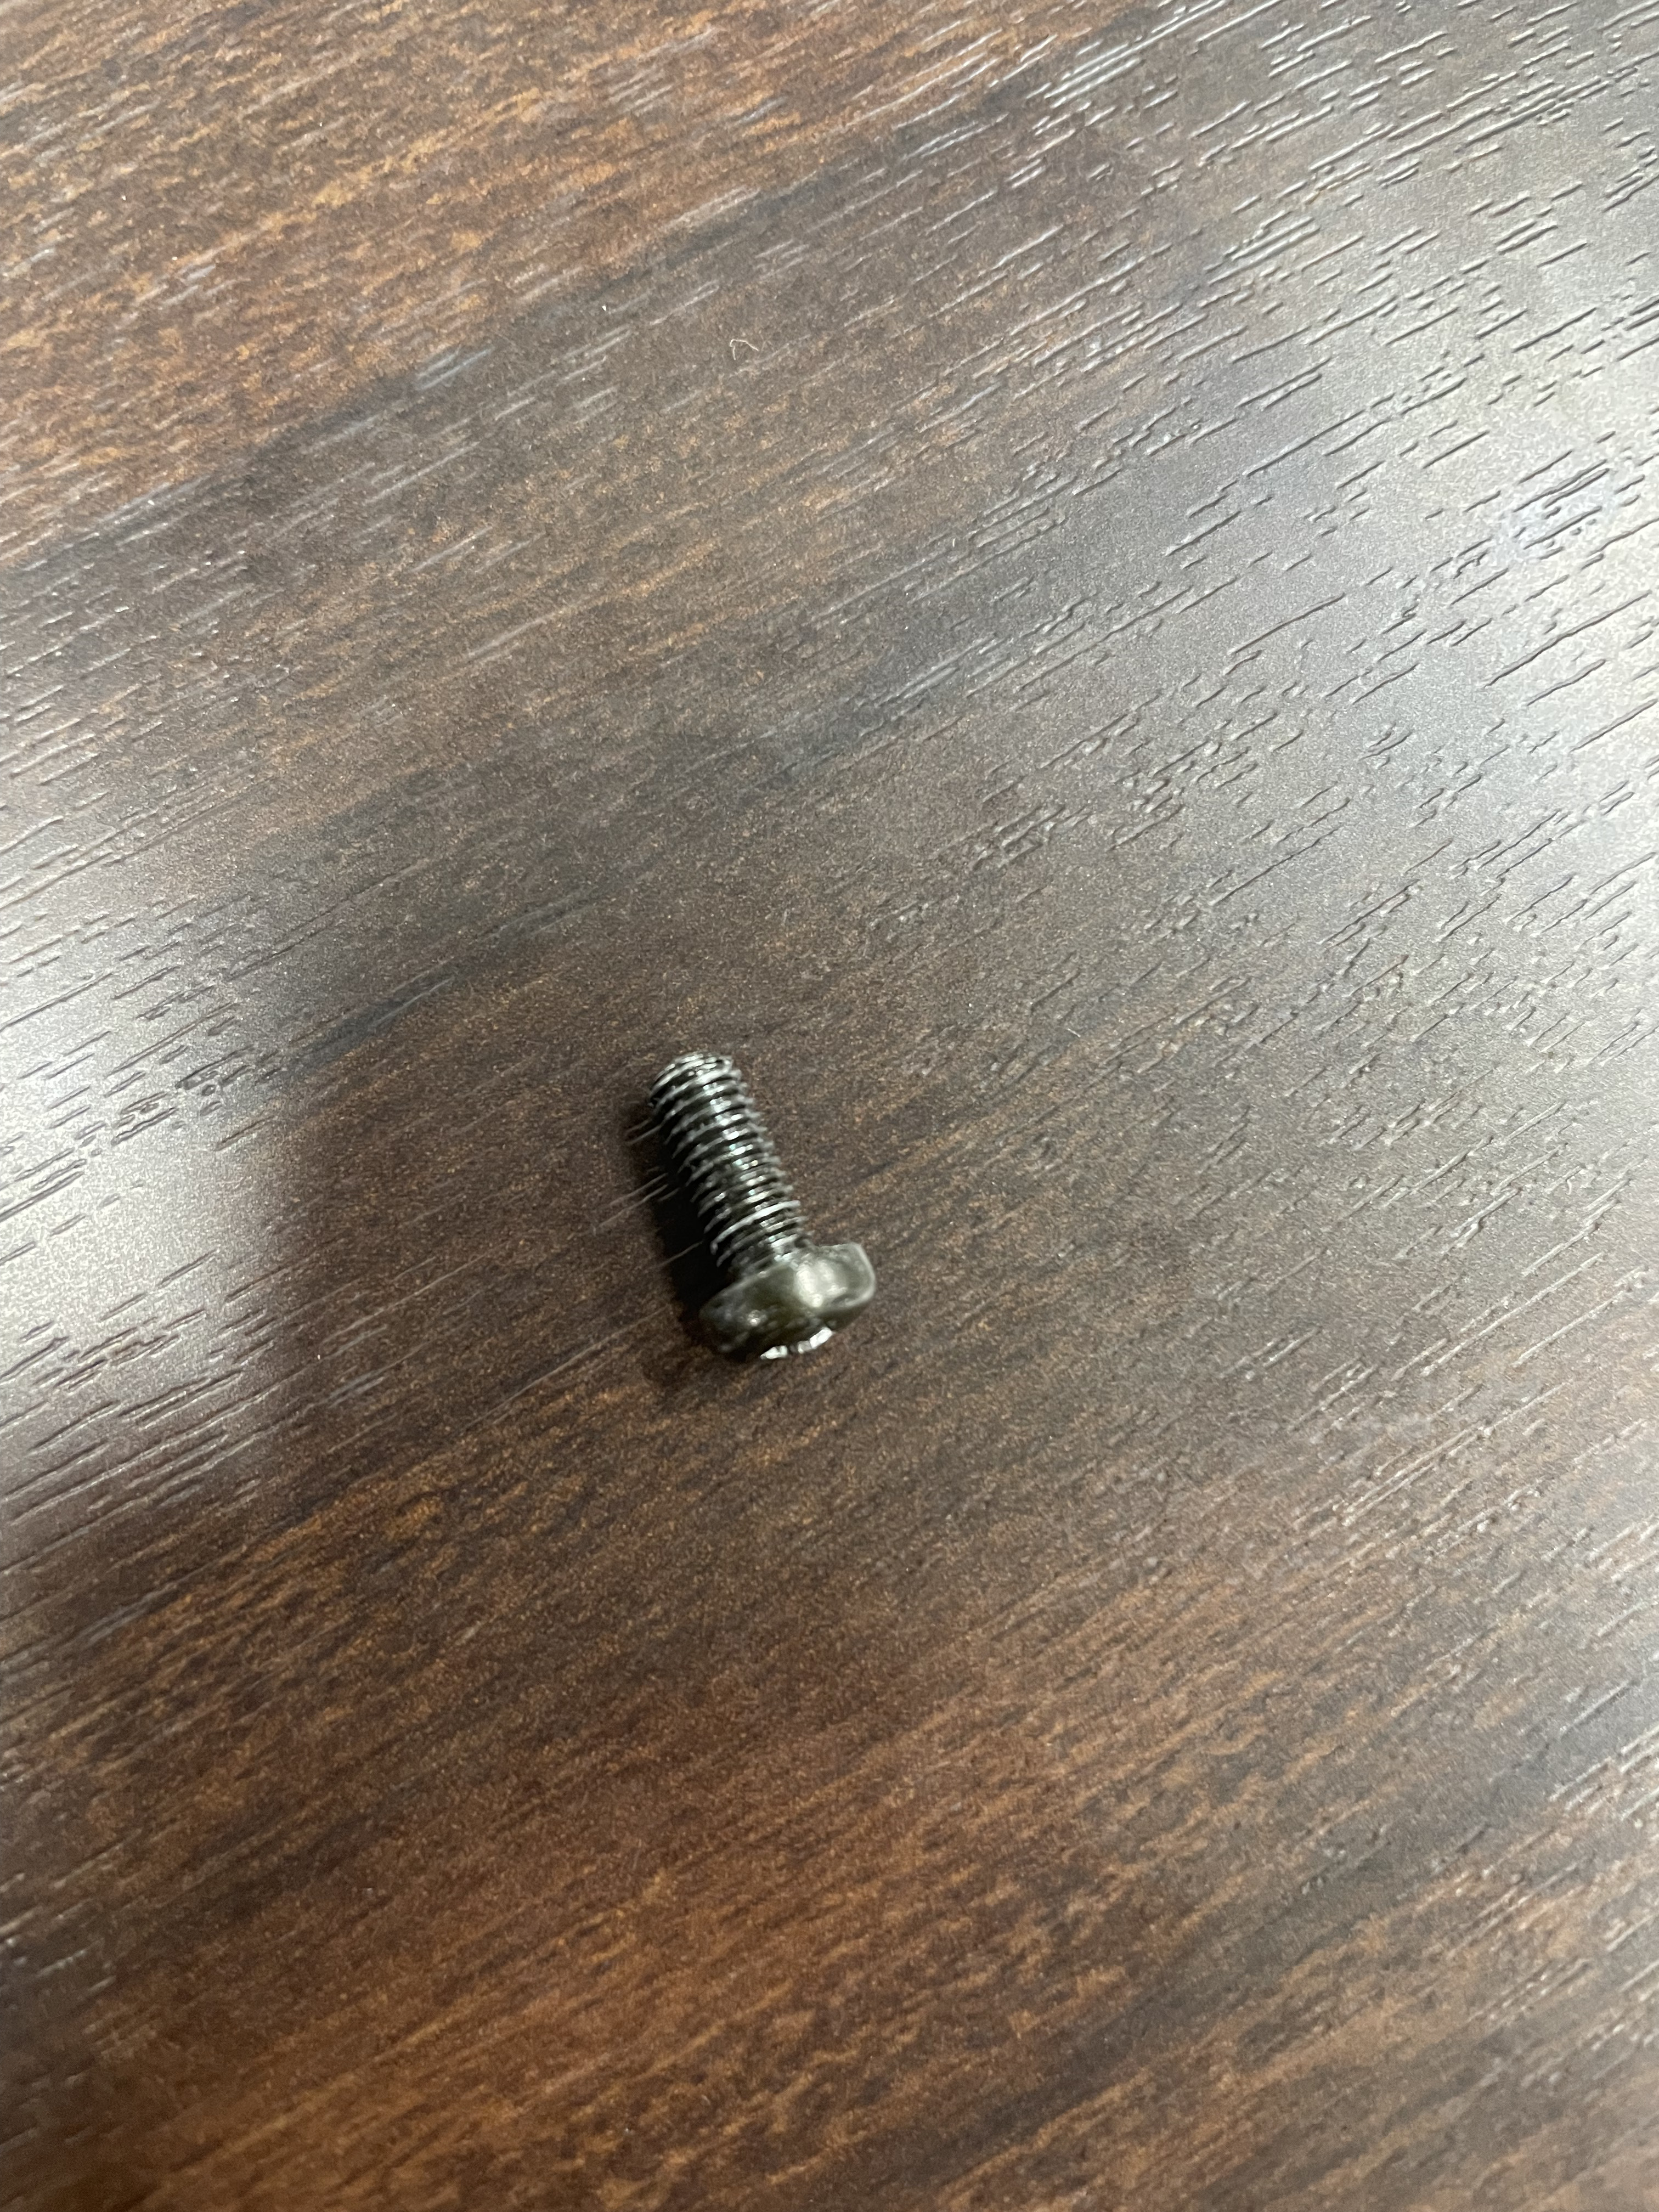screw2: (647, 1049, 879, 1362)
